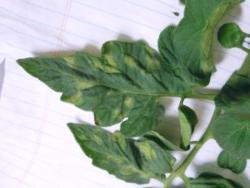Tomato mold leaf: (4, 0, 204, 153), (53, 109, 170, 188)
